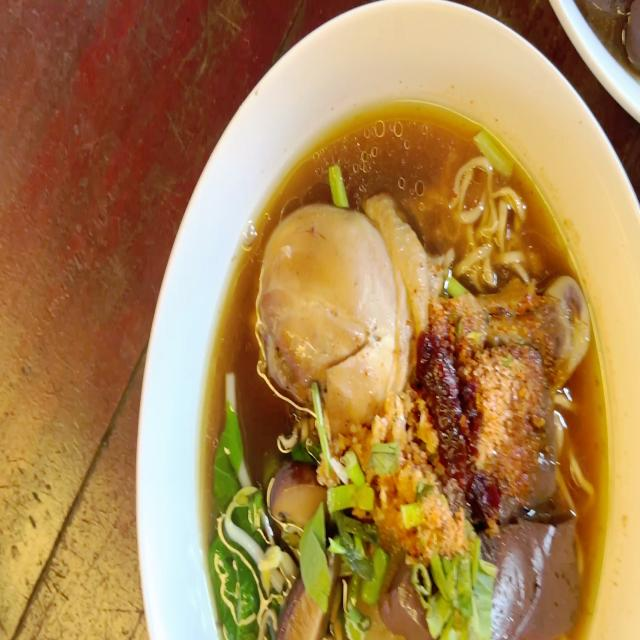boiled_chicken_blood_jelly: (474, 514, 580, 638)
chicken_drumstick: (261, 214, 583, 408)
noodle: (200, 94, 598, 640)
